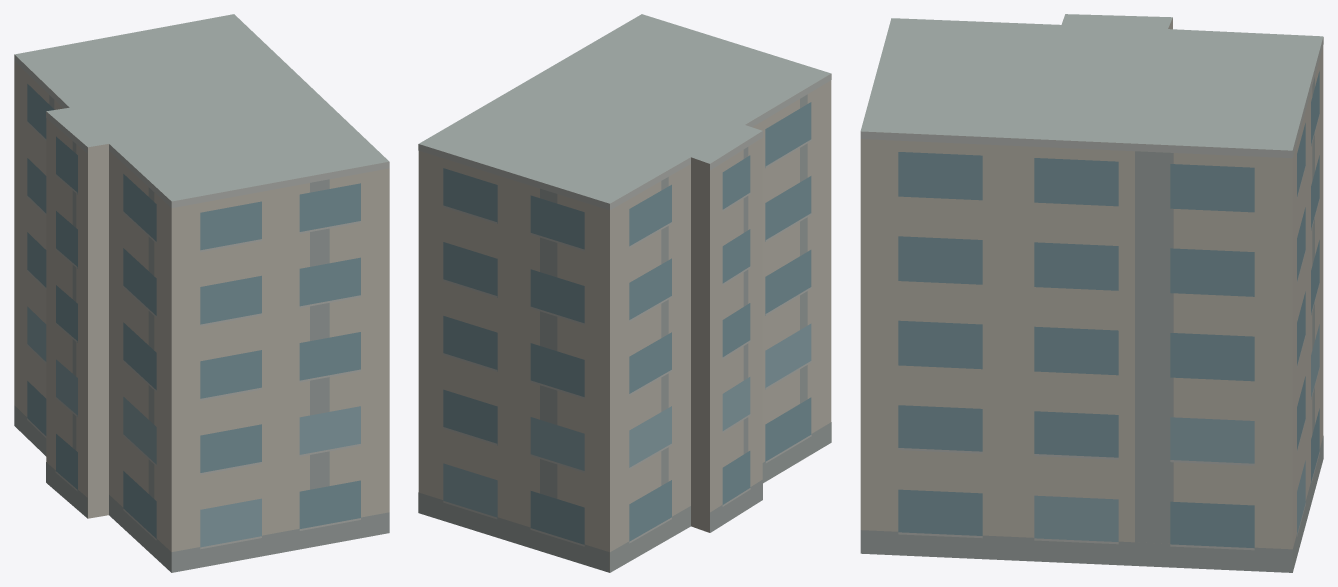
The model's file is survey-upis-32565905.glb.
3 views of the same model, side by side, from view 1: azimuth 30°, elevation 25°; view 2: azimuth 150°, elevation 25°; view 3: azimuth 270°, elevation 25° (orthographic). The views are drawn at different scales.
Parts seen in each view (by area): view 1: survey-upis-32565905.tmp; view 2: survey-upis-32565905.tmp; view 3: survey-upis-32565905.tmp.
Part boxes in pixels (x1,y1,x2,y2): survey-upis-32565905.tmp: (14, 14, 389, 572); survey-upis-32565905.tmp: (418, 14, 831, 572); survey-upis-32565905.tmp: (860, 14, 1323, 572).
Bounding box in the file's own units: 9.41 × 13.55 × 13.48.
